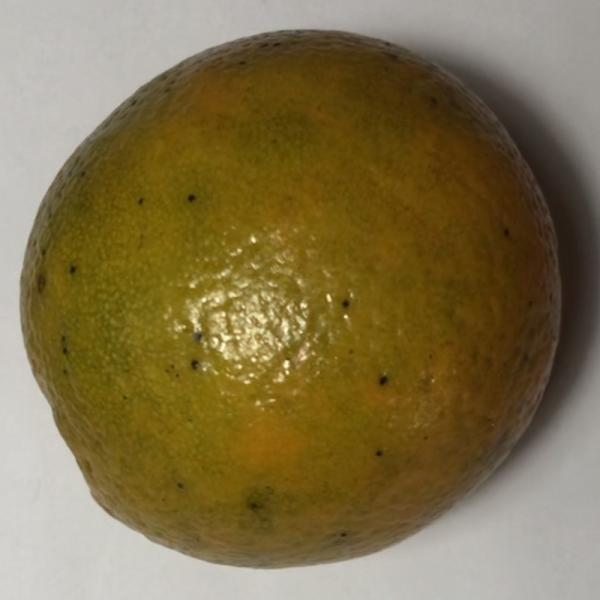Machas negras: (12, 17, 584, 580)
